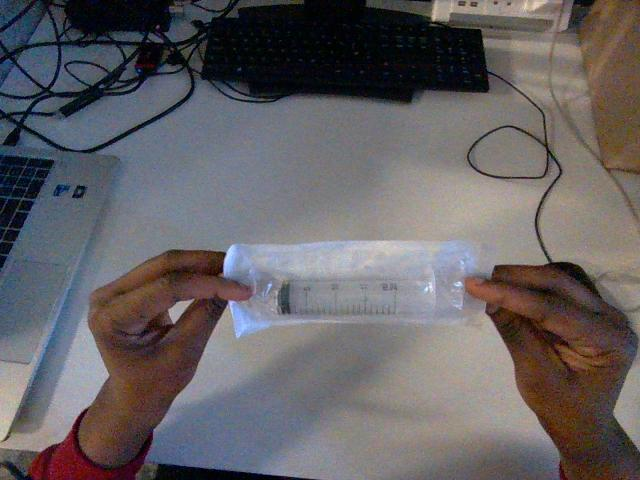syringe: (224, 241, 493, 336)
